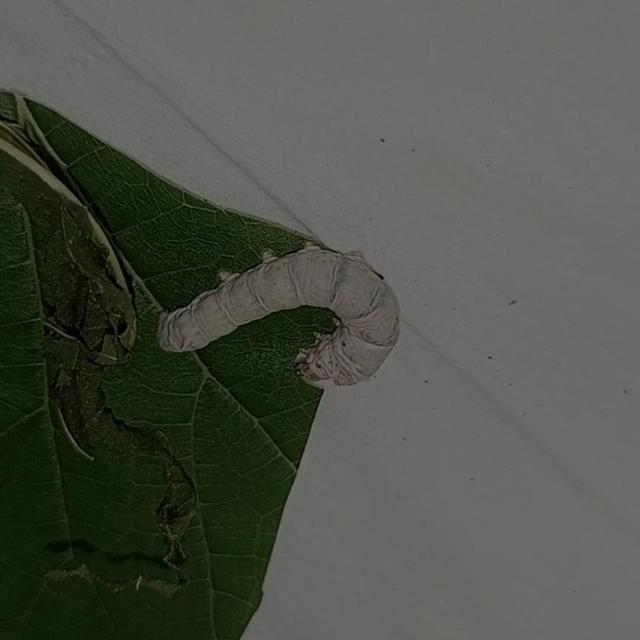Healthy: (149, 231, 405, 396)
